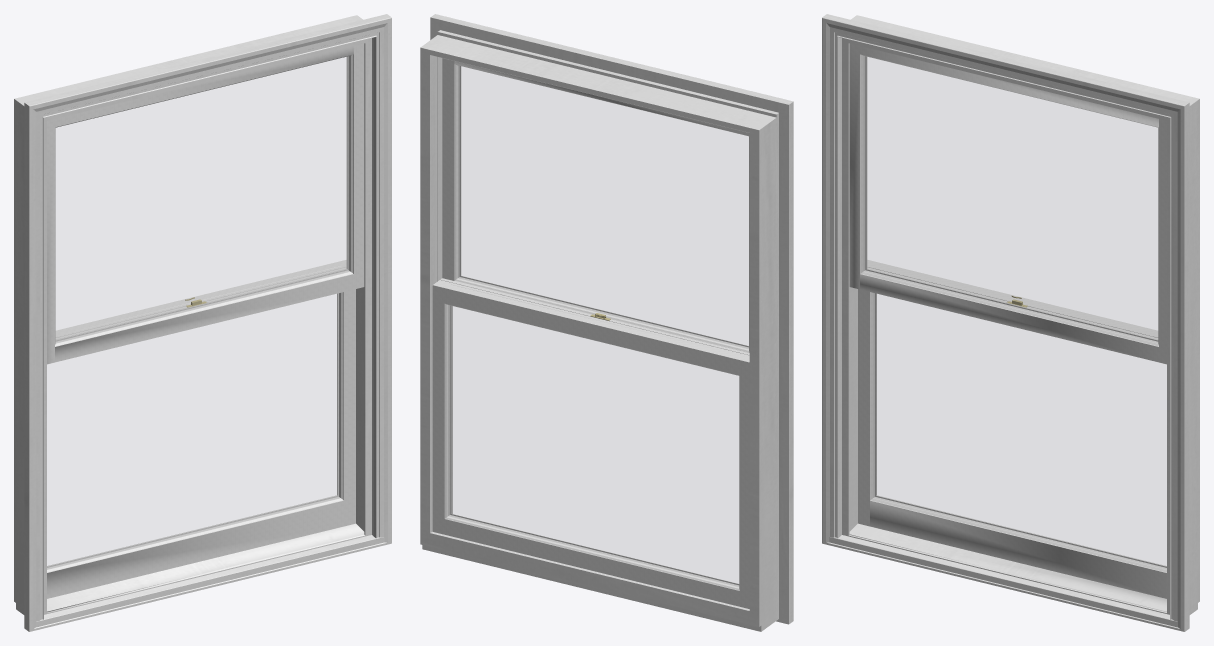
The model's file is white_window.glb.
The picture shows the model from 3 angles, left to right: view 1: azimuth 30°, elevation 25°; view 2: azimuth 150°, elevation 25°; view 3: azimuth 330°, elevation 25°; orthographic projection.
Visible parts, largest first — view 1: mesh_0_5, mesh_0_13, mesh_0_9, mesh_0_2, mesh_0_14, mesh_0_10, mesh_0_6, mesh_0_4, mesh_0_12; view 2: mesh_0_3, mesh_0_11, mesh_0_9, mesh_0_10, mesh_0_14, mesh_0_4, mesh_0_2, mesh_0_12; view 3: mesh_0_5, mesh_0_13, mesh_0_9, mesh_0_2, mesh_0_14, mesh_0_10, mesh_0_6, mesh_0_4, mesh_0_12.
Part boxes in pixels (<box>): mesh_0_5: <box>56,56,349,342</box>; mesh_0_13: <box>47,294,339,568</box>; mesh_0_9: <box>14,14,391,631</box>; mesh_0_2: <box>47,43,364,362</box>; mesh_0_14: <box>47,262,345,598</box>; mesh_0_10: <box>47,260,355,569</box>; mesh_0_6: <box>47,134,54,364</box>; mesh_0_4: <box>55,56,350,343</box>; mesh_0_12: <box>47,293,340,569</box>; mesh_0_3: <box>458,66,748,348</box>; mesh_0_11: <box>449,306,738,586</box>; mesh_0_9: <box>420,14,793,631</box>; mesh_0_10: <box>432,280,749,608</box>; mesh_0_14: <box>444,283,749,573</box>; mesh_0_4: <box>440,58,749,355</box>; mesh_0_2: <box>456,65,748,350</box>; mesh_0_12: <box>448,305,738,583</box>; mesh_0_5: <box>864,56,1157,342</box>; mesh_0_13: <box>874,294,1166,568</box>; mesh_0_9: <box>822,14,1199,631</box>; mesh_0_2: <box>849,43,1166,364</box>; mesh_0_14: <box>858,260,1166,598</box>; mesh_0_10: <box>858,289,1166,569</box>; mesh_0_6: <box>849,60,859,289</box>; mesh_0_4: <box>863,56,1158,343</box>; mesh_0_12: <box>873,293,1166,569</box>.
Size of what is drawn, in the model's own units: 1.23 by 1.7 by 0.1475.
8 materials, 3 textured.
